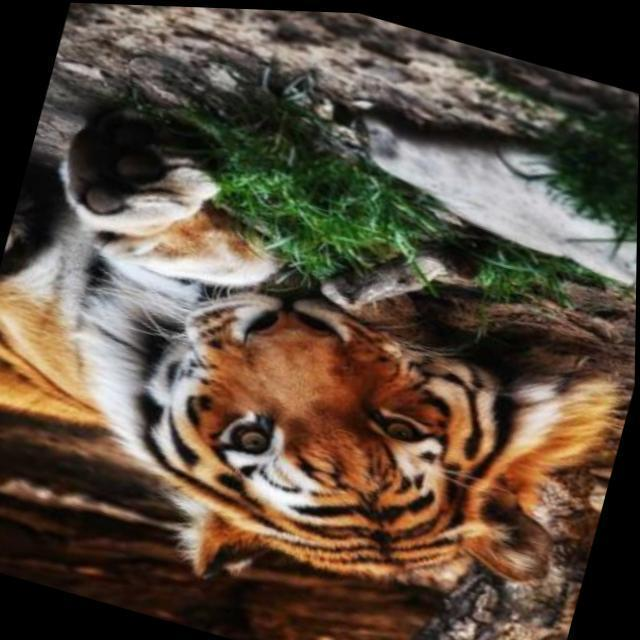tiger: (0, 102, 629, 596)
